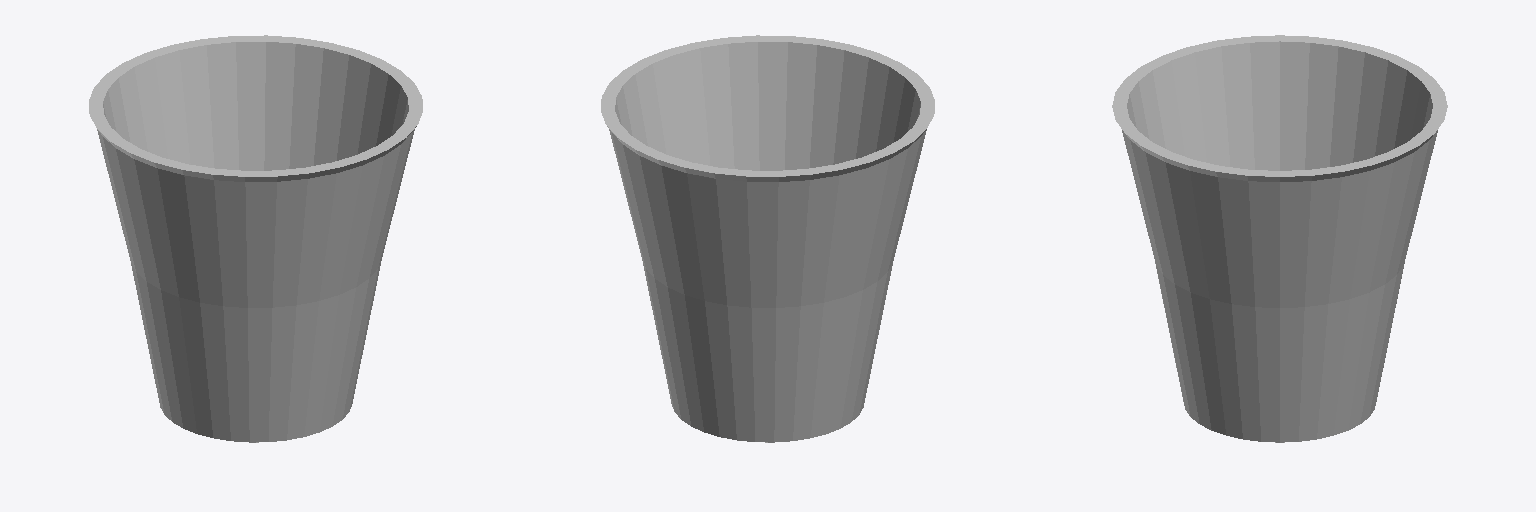
Rendered from Big_C_Cup_01.obj.
3 views of the same model, side by side, from view 1: azimuth 30°, elevation 25°; view 2: azimuth 150°, elevation 25°; view 3: azimuth 270°, elevation 25° (orthographic).
Visible parts, largest first — view 1: Cup_01_Cylinder; view 2: Cup_01_Cylinder; view 3: Cup_01_Cylinder.
Part boxes in pixels (left/top/right/bottom): Cup_01_Cylinder: left=89, top=35, right=422, bottom=442; Cup_01_Cylinder: left=601, top=35, right=934, bottom=442; Cup_01_Cylinder: left=1112, top=35, right=1447, bottom=442.
Bounding box in the file's own units: 2.05 × 2.02 × 2.05.